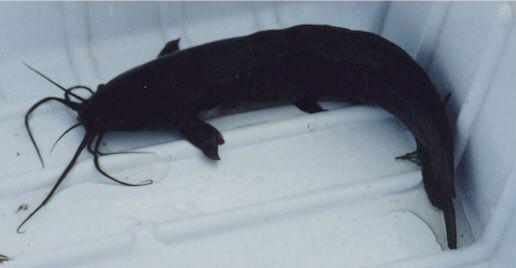Catfish: (28, 19, 459, 256)
